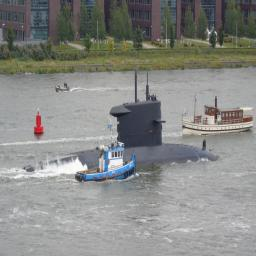submarine: (22, 70, 223, 173)
